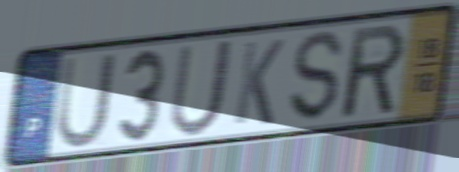3: (115, 45, 168, 146)
K: (230, 36, 287, 128)
R: (341, 20, 408, 123)
S: (288, 29, 346, 125)
U: (167, 35, 238, 140), (54, 50, 119, 153)
